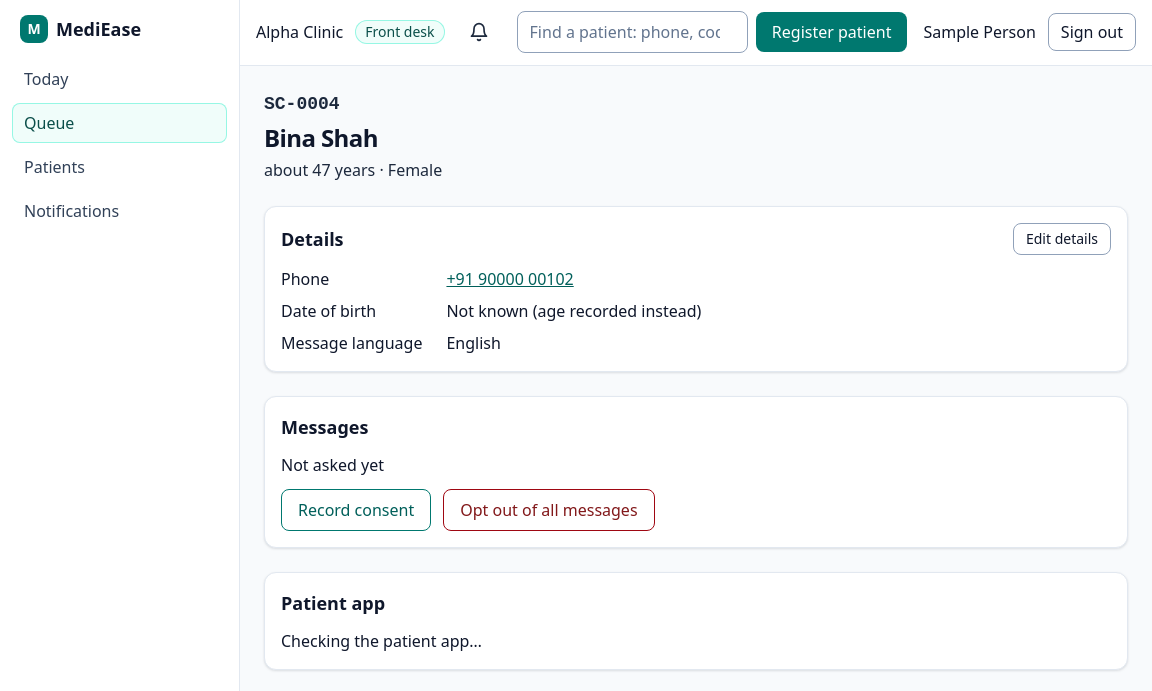
Test: patient profile › an edit that changes nothing sends nothing
Click the button "Edit details": (1062, 239) [1013, 223, 1111, 255]
(page scrolled)
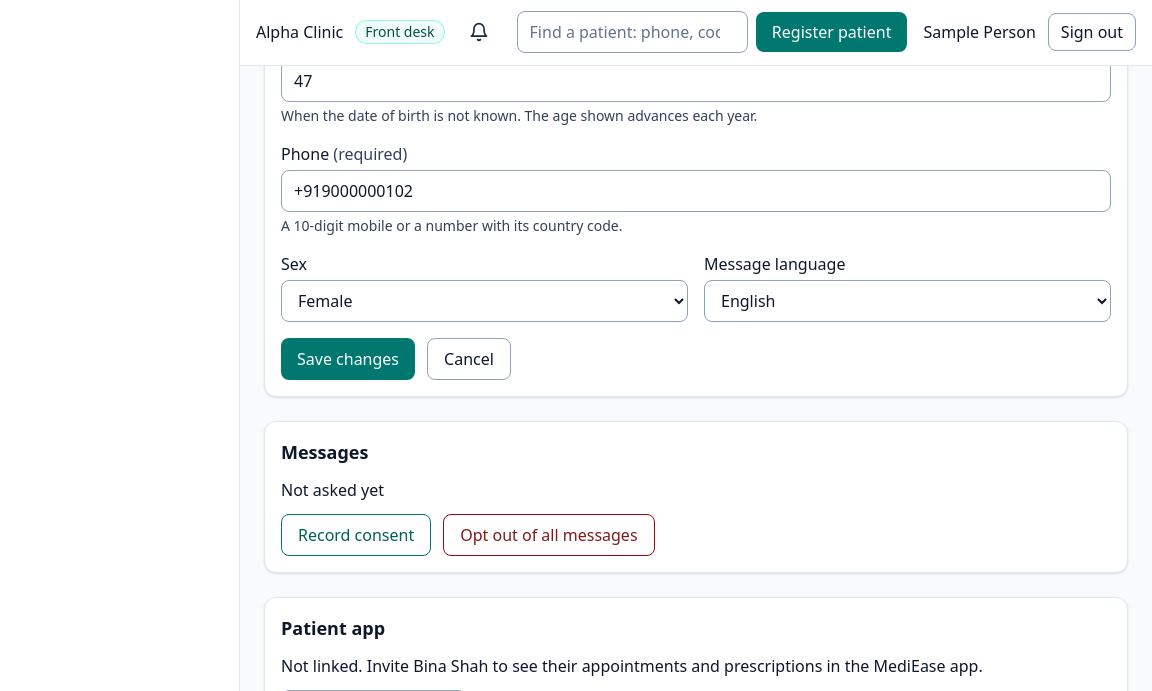
Click the button "Save changes": (348, 359) [281, 338, 415, 380]
(page scrolled)
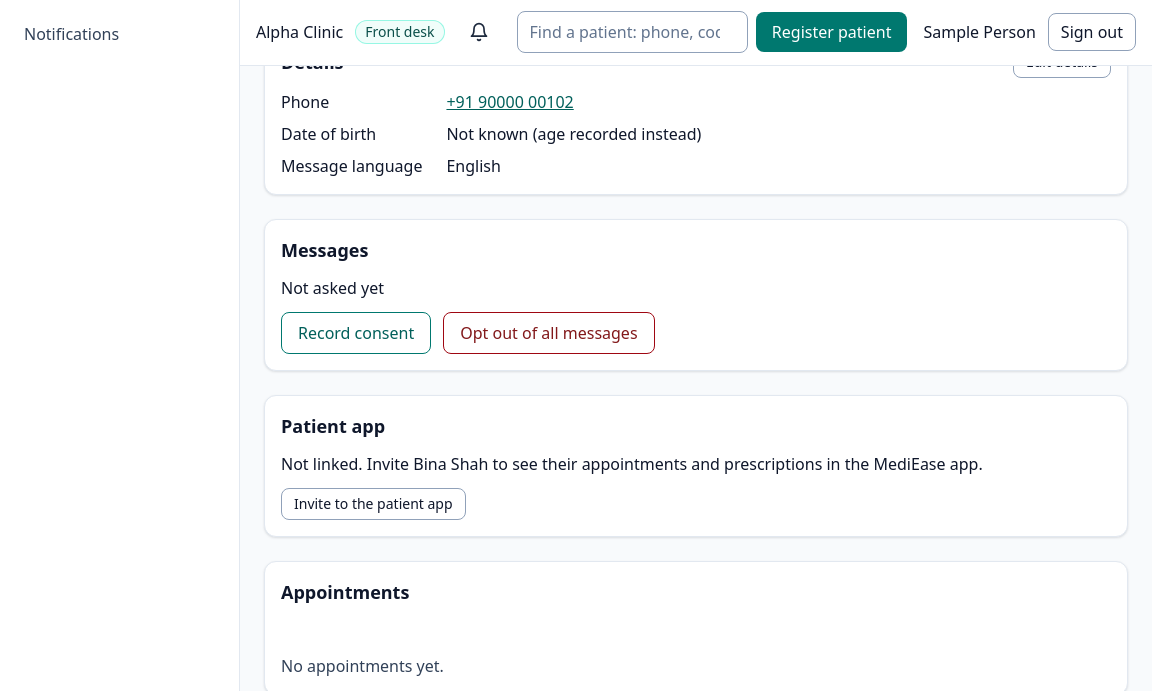
Expected: the button "Edit details" is shown, [1013, 46, 1111, 78]
